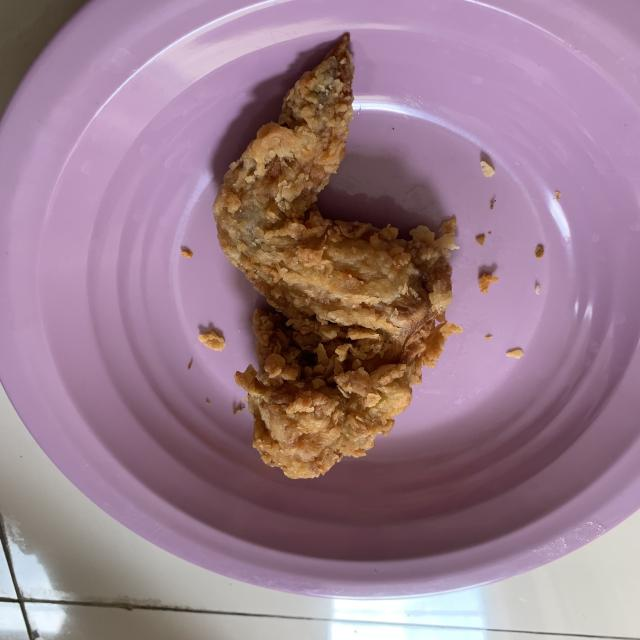Frango: (217, 39, 456, 482)
